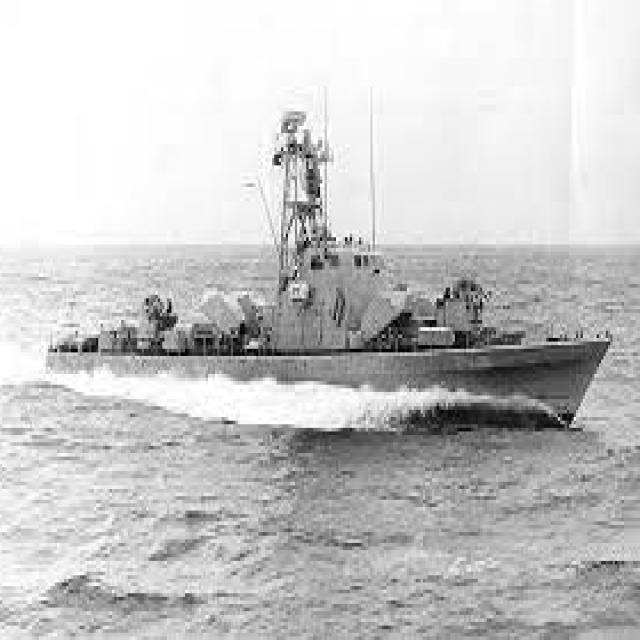navalvessels: (31, 59, 603, 470)
